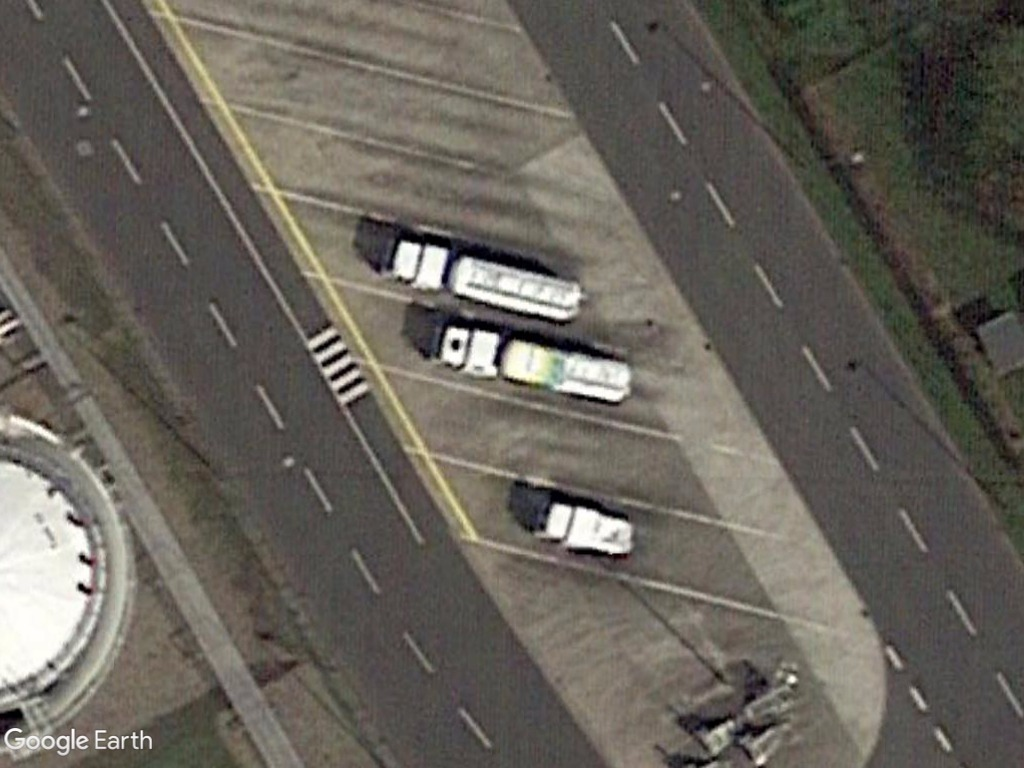other: (375, 225, 586, 326), (425, 318, 638, 411)
